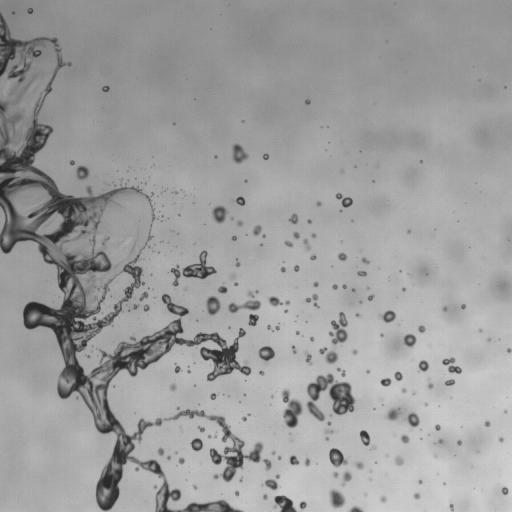droplet: (328, 448, 351, 467), (231, 143, 249, 164), (328, 488, 345, 510), (442, 357, 462, 374), (258, 346, 276, 364), (261, 473, 280, 490), (211, 205, 228, 223), (404, 411, 419, 431), (206, 296, 221, 315), (335, 192, 352, 207), (378, 310, 396, 323), (384, 407, 401, 420), (305, 293, 319, 308), (76, 165, 89, 179), (403, 333, 416, 347), (359, 430, 370, 446), (190, 438, 203, 451), (417, 360, 429, 372), (247, 314, 258, 326), (231, 196, 245, 205), (8, 29, 19, 40), (31, 156, 42, 167), (58, 184, 69, 195), (71, 187, 82, 198), (224, 200, 235, 211), (295, 221, 306, 232), (27, 240, 38, 251), (298, 256, 309, 267), (47, 264, 58, 275), (218, 294, 229, 305), (50, 299, 61, 310), (448, 302, 459, 313), (154, 320, 165, 331), (145, 325, 156, 336), (43, 327, 54, 338), (182, 328, 193, 339), (321, 336, 332, 347), (296, 340, 307, 351), (333, 342, 344, 353), (234, 351, 245, 362), (252, 357, 263, 368), (428, 358, 439, 369), (324, 362, 335, 373), (318, 389, 329, 400), (298, 393, 309, 404), (296, 411, 307, 422), (275, 414, 286, 425), (396, 415, 407, 426), (208, 421, 219, 432), (400, 422, 411, 433), (124, 423, 135, 434), (406, 426, 417, 437), (106, 431, 117, 442), (201, 439, 212, 450), (122, 460, 133, 471), (90, 470, 101, 481), (206, 491, 217, 502), (176, 497, 187, 508), (252, 224, 262, 236), (217, 282, 227, 294), (302, 238, 311, 251), (495, 486, 508, 495), (288, 213, 298, 224), (289, 454, 299, 465), (351, 461, 364, 469), (394, 455, 404, 465), (380, 377, 391, 386), (443, 378, 455, 386), (337, 252, 347, 261), (139, 291, 148, 301), (174, 362, 182, 373), (0, 90, 8, 101), (400, 434, 409, 443), (82, 176, 91, 185), (91, 187, 100, 196), (206, 215, 215, 224), (297, 215, 306, 224), (233, 226, 242, 235), (141, 248, 150, 257), (50, 276, 59, 285), (132, 287, 141, 296), (260, 298, 269, 307), (344, 312, 353, 321), (179, 315, 188, 324), (291, 335, 300, 344), (207, 340, 216, 349), (106, 345, 115, 354), (74, 350, 83, 359), (82, 366, 91, 375), (118, 367, 127, 376), (333, 373, 342, 382), (241, 445, 250, 454), (200, 446, 209, 455), (139, 453, 148, 462), (156, 456, 165, 465), (218, 460, 227, 469), (336, 464, 345, 473), (265, 470, 274, 479), (154, 476, 163, 485), (338, 486, 347, 495), (322, 494, 331, 503), (166, 499, 175, 508), (228, 499, 237, 508), (394, 371, 402, 381), (24, 0, 35, 6), (505, 434, 511, 445), (145, 505, 156, 511), (271, 505, 282, 511), (336, 505, 347, 511), (169, 383, 177, 391), (197, 425, 205, 433), (379, 495, 387, 503), (284, 240, 293, 247), (361, 257, 370, 264), (357, 270, 367, 276), (418, 325, 425, 333), (157, 447, 164, 455), (178, 456, 185, 464), (0, 209, 5, 220), (291, 345, 297, 354), (210, 393, 219, 399), (368, 444, 377, 450), (304, 457, 310, 466), (236, 220, 243, 227), (367, 294, 374, 301), (413, 492, 420, 499), (58, 66, 65, 73), (2, 69, 9, 76), (242, 145, 249, 152), (226, 148, 233, 155), (240, 159, 247, 166), (87, 168, 94, 175), (212, 200, 219, 207), (206, 206, 213, 213), (223, 213, 230, 220), (217, 221, 224, 228), (291, 223, 298, 230), (246, 226, 253, 233), (287, 235, 294, 242), (307, 237, 314, 244), (14, 240, 21, 247), (35, 251, 42, 258), (49, 263, 56, 270), (359, 263, 366, 270), (229, 264, 236, 271), (286, 264, 293, 271), (168, 273, 175, 280), (178, 274, 185, 281), (225, 282, 232, 289), (311, 286, 318, 293), (215, 292, 222, 299), (253, 293, 260, 300), (200, 296, 207, 303), (127, 297, 134, 304), (142, 297, 149, 304), (234, 298, 241, 305), (18, 302, 25, 309), (200, 302, 207, 309), (275, 304, 282, 311), (244, 308, 251, 315), (242, 323, 249, 330), (36, 324, 43, 331), (101, 325, 108, 332), (204, 327, 211, 334), (412, 329, 419, 336), (480, 331, 487, 338), (225, 339, 232, 346), (172, 342, 179, 349), (326, 344, 333, 351), (83, 345, 90, 352), (332, 360, 339, 367), (58, 361, 65, 368), (179, 363, 186, 370), (250, 367, 257, 374), (231, 368, 238, 375), (449, 371, 456, 378), (106, 385, 113, 392), (349, 389, 356, 396), (70, 390, 77, 397), (275, 393, 282, 400), (313, 399, 320, 406), (281, 402, 288, 409), (108, 404, 115, 411), (382, 407, 389, 414), (214, 409, 221, 416), (113, 412, 120, 419), (86, 413, 93, 420), (295, 413, 302, 420), (223, 417, 230, 424), (389, 418, 396, 425), (402, 420, 409, 427), (290, 425, 297, 432), (143, 426, 150, 433), (229, 426, 236, 433), (217, 429, 224, 436), (197, 432, 204, 439), (255, 435, 262, 442), (225, 439, 232, 446), (106, 447, 113, 454), (216, 447, 223, 454), (258, 451, 265, 458), (171, 455, 178, 462), (268, 455, 275, 462), (388, 455, 395, 462), (257, 460, 264, 467), (159, 463, 166, 470), (362, 463, 369, 470), (360, 467, 367, 474), (231, 474, 238, 481), (336, 474, 343, 481), (116, 481, 123, 488), (414, 485, 421, 492), (274, 488, 281, 495), (213, 494, 220, 501), (267, 495, 274, 502), (197, 497, 204, 504), (113, 499, 120, 506), (291, 501, 298, 508), (355, 501, 362, 508), (293, 231, 299, 239), (102, 86, 109, 92), (262, 153, 269, 159), (310, 253, 316, 260), (332, 283, 338, 290), (143, 304, 149, 311), (83, 353, 90, 359), (400, 387, 407, 393), (484, 420, 490, 427), (435, 424, 441, 431), (332, 471, 338, 478), (132, 304, 140, 309), (231, 235, 237, 241), (293, 265, 299, 271), (294, 329, 300, 335), (485, 336, 491, 342), (352, 349, 358, 355), (258, 370, 265, 375), (238, 475, 243, 482), (234, 490, 239, 497), (262, 493, 267, 500), (27, 8, 33, 13), (305, 99, 310, 105), (69, 160, 75, 165), (316, 200, 321, 206), (310, 233, 316, 238), (280, 266, 285, 272), (313, 281, 318, 287), (442, 305, 447, 311), (355, 312, 361, 317), (309, 336, 315, 341), (506, 347, 511, 353), (498, 437, 504, 442), (166, 454, 171, 460), (192, 484, 197, 490), (507, 407, 511, 414), (507, 486, 511, 493), (95, 507, 102, 511), (107, 507, 114, 511), (301, 507, 308, 511), (461, 304, 466, 309), (365, 369, 370, 374), (241, 416, 246, 421), (326, 421, 331, 426), (438, 438, 443, 443), (457, 440, 462, 445), (2, 14, 7, 19), (36, 32, 41, 37), (42, 32, 47, 37), (48, 33, 53, 38), (56, 39, 61, 44), (61, 57, 66, 62), (14, 75, 19, 80), (50, 82, 55, 87), (10, 94, 15, 99), (36, 118, 41, 123), (49, 122, 54, 127), (46, 136, 51, 141), (230, 159, 235, 164), (80, 161, 85, 166), (73, 163, 78, 168), (46, 171, 51, 176), (126, 182, 131, 187), (115, 183, 120, 188), (108, 185, 113, 190), (153, 189, 158, 194), (177, 191, 182, 196), (341, 192, 346, 197), (243, 196, 248, 201), (320, 199, 325, 204), (311, 201, 316, 206), (320, 202, 325, 207), (316, 205, 321, 210), (346, 205, 351, 210), (342, 206, 347, 211), (286, 213, 291, 218), (231, 219, 236, 224), (259, 229, 264, 234), (257, 232, 262, 237), (298, 235, 303, 240), (147, 239, 152, 244), (284, 245, 289, 250), (337, 248, 342, 253), (343, 249, 348, 254), (306, 251, 311, 256), (360, 252, 365, 257), (365, 255, 370, 260), (345, 256, 350, 261), (338, 259, 343, 264), (134, 261, 139, 266), (204, 261, 209, 266), (234, 266, 239, 271), (275, 266, 280, 271), (205, 274, 210, 279), (139, 275, 144, 280), (359, 275, 364, 280), (313, 276, 318, 281), (330, 279, 335, 284), (217, 281, 222, 286), (223, 282, 228, 287), (337, 284, 342, 289), (346, 284, 351, 289), (55, 286, 60, 291), (250, 287, 255, 292), (330, 288, 335, 293), (146, 289, 151, 294), (366, 290, 371, 295), (272, 292, 277, 297), (307, 292, 312, 297), (246, 295, 251, 300), (278, 296, 283, 301), (300, 296, 305, 301), (362, 296, 367, 301), (170, 298, 175, 303), (315, 298, 320, 303), (289, 299, 294, 304), (309, 299, 314, 304), (121, 301, 126, 306), (161, 302, 166, 307), (438, 303, 443, 308), (281, 304, 286, 309), (137, 305, 142, 310), (387, 305, 392, 310), (383, 306, 388, 311), (390, 306, 395, 311), (446, 307, 451, 312), (130, 308, 135, 313), (250, 309, 255, 314), (380, 309, 385, 314), (440, 310, 445, 315), (443, 310, 448, 315), (117, 311, 122, 316), (214, 311, 219, 316), (173, 314, 178, 319), (18, 315, 23, 320), (112, 316, 117, 321), (244, 316, 249, 321), (334, 318, 339, 323), (379, 318, 384, 323), (255, 319, 260, 324), (388, 320, 393, 325), (418, 320, 423, 325), (180, 322, 185, 327), (278, 323, 283, 328), (423, 323, 428, 328), (343, 325, 348, 330), (201, 328, 206, 333), (331, 328, 336, 333), (193, 329, 198, 334), (402, 330, 407, 335), (233, 331, 238, 336), (218, 332, 223, 337), (346, 333, 351, 338), (327, 335, 332, 340), (237, 337, 242, 342), (399, 337, 404, 342), (343, 339, 348, 344), (86, 340, 91, 345), (263, 341, 268, 346), (336, 341, 341, 346), (413, 341, 418, 346), (181, 343, 186, 348), (403, 344, 408, 349), (216, 345, 221, 350), (271, 345, 276, 350), (287, 347, 292, 352), (97, 352, 102, 357), (273, 352, 278, 357), (348, 352, 353, 357), (355, 352, 360, 357), (301, 354, 306, 359), (445, 354, 450, 359), (158, 356, 163, 361), (198, 356, 203, 361), (310, 356, 315, 361), (423, 356, 428, 361), (268, 357, 273, 362), (259, 358, 264, 363), (426, 359, 431, 364), (187, 360, 192, 365), (414, 360, 419, 365), (238, 361, 243, 366), (452, 361, 457, 366), (94, 362, 99, 367), (247, 362, 252, 367), (147, 363, 152, 368), (170, 364, 175, 369), (443, 364, 448, 369), (414, 365, 419, 370), (136, 366, 141, 371), (425, 368, 430, 373), (400, 370, 405, 375), (239, 372, 244, 377), (222, 373, 227, 378), (217, 374, 222, 379), (381, 374, 386, 379), (401, 375, 406, 380), (390, 376, 395, 381), (430, 378, 435, 383), (398, 379, 403, 384), (108, 380, 113, 385), (166, 380, 171, 385), (423, 380, 428, 385), (376, 381, 381, 386), (303, 382, 308, 387), (432, 383, 437, 388), (164, 384, 169, 389), (379, 384, 384, 389), (175, 385, 180, 390), (423, 385, 428, 390), (52, 387, 57, 392), (406, 388, 411, 393), (169, 390, 174, 395), (401, 392, 406, 397), (54, 393, 59, 398), (78, 397, 83, 402), (267, 397, 272, 402), (352, 402, 357, 407), (179, 406, 184, 411), (189, 406, 194, 411), (196, 406, 201, 411), (85, 408, 90, 413), (173, 409, 178, 414), (204, 410, 209, 415), (332, 412, 337, 417), (159, 414, 164, 419), (184, 414, 189, 419), (192, 414, 197, 419), (178, 415, 183, 420), (143, 416, 148, 421), (312, 416, 317, 421), (323, 416, 328, 421), (150, 417, 155, 422), (418, 417, 423, 422), (89, 419, 94, 424), (161, 420, 166, 425), (479, 420, 484, 425), (489, 420, 494, 425), (416, 423, 421, 428), (328, 424, 333, 429), (217, 425, 222, 430), (413, 425, 418, 430), (482, 425, 487, 430), (486, 425, 491, 430), (133, 426, 138, 431), (288, 426, 293, 431), (439, 426, 444, 431), (92, 427, 97, 432), (366, 429, 371, 434), (96, 431, 101, 436), (326, 432, 331, 437), (499, 432, 504, 437), (320, 433, 325, 438), (355, 433, 360, 438), (396, 433, 401, 438), (502, 434, 507, 439), (239, 435, 244, 440), (493, 436, 498, 441), (502, 438, 507, 443), (398, 440, 403, 445), (497, 441, 502, 446), (187, 445, 192, 450), (336, 445, 341, 450), (191, 449, 196, 454), (163, 450, 168, 455), (324, 450, 329, 455), (128, 451, 133, 456), (177, 452, 182, 457), (401, 454, 406, 459), (206, 455, 211, 460), (295, 455, 300, 460), (285, 456, 290, 461), (242, 457, 247, 462), (325, 457, 330, 462), (355, 457, 360, 462), (183, 459, 188, 464), (309, 459, 314, 464), (132, 462, 137, 467), (292, 463, 297, 468), (395, 464, 400, 469), (398, 464, 403, 469), (235, 466, 240, 471), (153, 472, 158, 477), (208, 472, 213, 477), (369, 472, 374, 477), (270, 475, 275, 480), (329, 475, 334, 480), (218, 476, 223, 481), (275, 478, 280, 483), (345, 480, 350, 485), (167, 486, 172, 491), (179, 490, 184, 495), (285, 493, 290, 498), (408, 493, 413, 498), (419, 493, 424, 498), (257, 494, 262, 499), (375, 494, 380, 499), (91, 496, 96, 501), (385, 497, 390, 502), (414, 498, 419, 503), (377, 500, 382, 505), (307, 219, 312, 223), (406, 229, 411, 233), (262, 233, 266, 238), (342, 284, 346, 289), (478, 328, 483, 332), (411, 390, 415, 395), (271, 450, 275, 455), (277, 455, 281, 460), (418, 479, 422, 484), (183, 287, 187, 291), (366, 286, 370, 290), (402, 287, 406, 291), (351, 288, 355, 292), (284, 309, 288, 313), (424, 402, 428, 406), (503, 409, 507, 413), (385, 453, 389, 457), (433, 454, 437, 458), (368, 469, 372, 473), (368, 477, 372, 481), (176, 213, 181, 216), (446, 508, 451, 511), (11, 11, 15, 14), (419, 160, 423, 163), (230, 216, 233, 220), (259, 243, 263, 246), (358, 300, 362, 303), (380, 333, 383, 337), (270, 394, 273, 398), (329, 413, 332, 417), (363, 492, 367, 495), (0, 206, 2, 211), (0, 226, 2, 231), (0, 248, 2, 253), (172, 122, 175, 125), (214, 155, 217, 158), (340, 170, 343, 173), (244, 179, 247, 182), (339, 209, 342, 212), (160, 214, 163, 217), (350, 219, 353, 222), (339, 240, 342, 243), (150, 273, 153, 276), (243, 393, 246, 396), (238, 400, 241, 403), (247, 413, 250, 416), (288, 432, 291, 435), (174, 451, 177, 454), (476, 450, 479, 453), (443, 482, 446, 485), (28, 4, 31, 7), (14, 10, 17, 13), (31, 11, 34, 14), (28, 13, 31, 16), (70, 63, 73, 66), (55, 73, 58, 76), (105, 82, 108, 85), (503, 82, 506, 85), (108, 85, 111, 88), (500, 85, 503, 88), (506, 85, 509, 88), (107, 89, 110, 92), (48, 91, 51, 94), (104, 91, 107, 94), (307, 96, 310, 99), (302, 102, 305, 105), (307, 103, 310, 106), (39, 108, 42, 111), (241, 116, 244, 119), (175, 121, 178, 124), (263, 150, 266, 153), (260, 152, 263, 155), (267, 152, 270, 155), (216, 153, 219, 156), (210, 155, 213, 158), (419, 156, 422, 159), (72, 157, 75, 160), (215, 157, 218, 160), (260, 157, 263, 160), (267, 157, 270, 160), (264, 159, 267, 162), (416, 159, 419, 162), (422, 159, 425, 162), (66, 160, 69, 163), (353, 167, 356, 170), (371, 176, 374, 179), (241, 177, 244, 180), (246, 177, 249, 180), (141, 179, 144, 182), (368, 179, 371, 182), (374, 179, 377, 182), (146, 180, 149, 183), (244, 182, 247, 185), (371, 182, 374, 185), (179, 185, 182, 188), (161, 187, 164, 190), (171, 188, 174, 191), (176, 188, 179, 191), (141, 189, 144, 192), (165, 189, 168, 192), (162, 191, 165, 194), (171, 192, 174, 195), (147, 193, 150, 196), (235, 194, 238, 197), (333, 196, 336, 199), (351, 197, 354, 200), (244, 200, 247, 203), (150, 201, 153, 204), (236, 203, 239, 206), (153, 210, 156, 213), (176, 210, 179, 213), (179, 211, 182, 214), (176, 215, 179, 218), (158, 216, 161, 219), (308, 216, 311, 219), (153, 218, 156, 221), (311, 219, 314, 222), (304, 220, 307, 223), (307, 223, 310, 226), (410, 229, 413, 232), (314, 231, 317, 234), (232, 232, 235, 235), (229, 234, 232, 237), (244, 235, 247, 238), (159, 237, 162, 240), (235, 238, 238, 241), (230, 239, 233, 242), (160, 242, 163, 245), (144, 245, 147, 248), (260, 245, 263, 248), (203, 247, 206, 250), (155, 248, 158, 251), (206, 250, 209, 253), (154, 251, 157, 254), (159, 251, 162, 254), (197, 251, 200, 254), (315, 254, 318, 257), (237, 258, 240, 261), (311, 259, 314, 262), (233, 260, 236, 263), (296, 262, 299, 265), (281, 263, 284, 266), (238, 265, 241, 268), (213, 266, 216, 269), (298, 266, 301, 269), (400, 267, 403, 270), (167, 268, 170, 271), (278, 270, 281, 273), (396, 270, 399, 273), (282, 271, 285, 274), (294, 271, 297, 274), (354, 272, 357, 275), (232, 279, 235, 282), (237, 282, 240, 285), (310, 283, 313, 286), (317, 283, 320, 286), (329, 283, 332, 286), (171, 284, 174, 287), (402, 284, 405, 287), (149, 285, 152, 288), (234, 285, 237, 288), (255, 286, 258, 289), (354, 287, 357, 290), (398, 287, 401, 290), (405, 287, 408, 290), (343, 288, 346, 291), (402, 290, 405, 293), (351, 291, 354, 294), (371, 297, 374, 300), (461, 300, 464, 303), (316, 302, 319, 305), (359, 303, 362, 306), (148, 304, 151, 307), (184, 305, 187, 308), (313, 305, 316, 308), (458, 306, 461, 309), (462, 308, 465, 311), (146, 309, 149, 312), (342, 310, 345, 313), (358, 311, 361, 314), (293, 316, 296, 319), (274, 322, 277, 325), (479, 325, 482, 328), (272, 326, 275, 329), (264, 327, 267, 330), (296, 327, 299, 330), (236, 328, 239, 331), (268, 329, 271, 332), (277, 329, 280, 332), (292, 331, 295, 334), (299, 331, 302, 334), (377, 331, 380, 334), (382, 331, 385, 334), (309, 333, 312, 336), (377, 335, 380, 338), (307, 338, 310, 341), (313, 338, 316, 341), (490, 339, 493, 342), (294, 344, 297, 347), (320, 345, 323, 348), (352, 346, 355, 349), (308, 351, 311, 354), (505, 351, 508, 354), (293, 353, 296, 356), (304, 361, 307, 364), (176, 362, 179, 365), (459, 365, 462, 368), (188, 366, 191, 369), (367, 366, 370, 369), (363, 367, 366, 370), (369, 369, 372, 372), (178, 370, 181, 373), (344, 371, 347, 374), (363, 371, 366, 374), (188, 372, 191, 375), (368, 372, 371, 375), (248, 373, 251, 376), (258, 373, 261, 376), (203, 375, 206, 378), (207, 380, 210, 383), (190, 383, 193, 386), (195, 384, 198, 387), (448, 384, 451, 387), (210, 390, 213, 393), (243, 390, 246, 393), (240, 391, 243, 394), (224, 393, 227, 396), (267, 393, 270, 396), (413, 394, 416, 397), (78, 395, 81, 398), (242, 395, 245, 398), (211, 399, 214, 402), (425, 399, 428, 402), (382, 400, 385, 403), (378, 401, 381, 404), (427, 402, 430, 405), (421, 403, 424, 406), (372, 404, 375, 407), (425, 405, 428, 408), (375, 406, 378, 409), (500, 409, 503, 412), (506, 409, 509, 412), (247, 410, 250, 413), (503, 413, 506, 416), (245, 415, 248, 418), (170, 418, 173, 421), (239, 418, 242, 421), (436, 421, 439, 424), (439, 424, 442, 427), (432, 427, 435, 430), (196, 428, 199, 431), (210, 433, 213, 436), (422, 436, 425, 439), (189, 438, 192, 441), (419, 439, 422, 442), (434, 439, 437, 442), (454, 439, 457, 442), (436, 442, 439, 445), (454, 442, 457, 445), (460, 442, 463, 445), (361, 443, 364, 446), (272, 447, 275, 450), (371, 459, 374, 462), (376, 459, 379, 462), (177, 462, 180, 465), (374, 463, 377, 466), (279, 474, 282, 477), (242, 477, 245, 480), (442, 478, 445, 481), (421, 479, 424, 482), (261, 480, 264, 483), (415, 480, 418, 483), (439, 481, 442, 484), (445, 481, 448, 484), (195, 483, 198, 486), (418, 483, 421, 486), (190, 486, 193, 489), (196, 487, 199, 490), (499, 491, 502, 494), (238, 492, 241, 495), (305, 503, 308, 506), (446, 504, 449, 507), (452, 505, 455, 508), (241, 120, 244, 122), (126, 169, 128, 172), (372, 180, 375, 182), (176, 232, 179, 234), (282, 261, 285, 263), (399, 270, 402, 272), (425, 273, 428, 275), (147, 287, 150, 289), (153, 296, 156, 298), (296, 314, 298, 317), (294, 320, 296, 323), (305, 320, 307, 323), (228, 326, 230, 329), (301, 334, 303, 337), (193, 361, 195, 364), (244, 378, 246, 381), (113, 384, 115, 387), (222, 393, 224, 396), (227, 395, 230, 397), (450, 396, 452, 399), (373, 407, 375, 410), (419, 428, 422, 430), (427, 433, 430, 435), (433, 442, 436, 444), (374, 461, 377, 463), (199, 462, 202, 464), (509, 346, 511, 349), (509, 351, 511, 354), (504, 86, 506, 88), (326, 125, 328, 127), (325, 149, 327, 151), (359, 150, 361, 152), (153, 164, 155, 166), (354, 165, 356, 167), (144, 182, 146, 184), (157, 195, 159, 197), (184, 194, 186, 196), (167, 217, 169, 219), (245, 233, 247, 235), (331, 265, 333, 267), (152, 288, 154, 290), (110, 295, 112, 297), (196, 319, 198, 321), (498, 338, 500, 340), (194, 384, 196, 386), (269, 403, 271, 405), (420, 437, 422, 439), (328, 141, 329, 143), (135, 177, 136, 179), (158, 211, 160, 212), (193, 243, 195, 244), (198, 403, 199, 405), (321, 126, 322, 127), (108, 184, 109, 185), (193, 202, 194, 203)
ligament: (167, 250, 217, 288), (318, 312, 348, 364), (272, 495, 306, 511), (267, 296, 290, 306), (341, 469, 351, 487), (228, 271, 238, 286), (303, 350, 312, 365), (346, 505, 364, 511), (336, 367, 346, 377), (427, 377, 433, 389), (172, 189, 184, 194), (235, 258, 240, 267), (449, 503, 454, 511), (187, 365, 191, 374), (126, 304, 130, 311), (179, 426, 183, 432), (380, 398, 383, 405), (91, 344, 93, 353), (138, 219, 140, 223), (159, 240, 163, 242)
